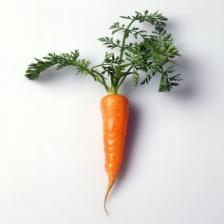orange: (102, 95, 129, 207)
